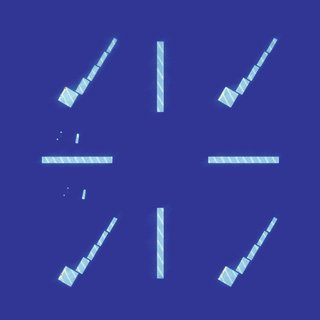overheated: (60, 268, 65, 276), (221, 268, 226, 275), (219, 93, 223, 100), (64, 86, 66, 89)
